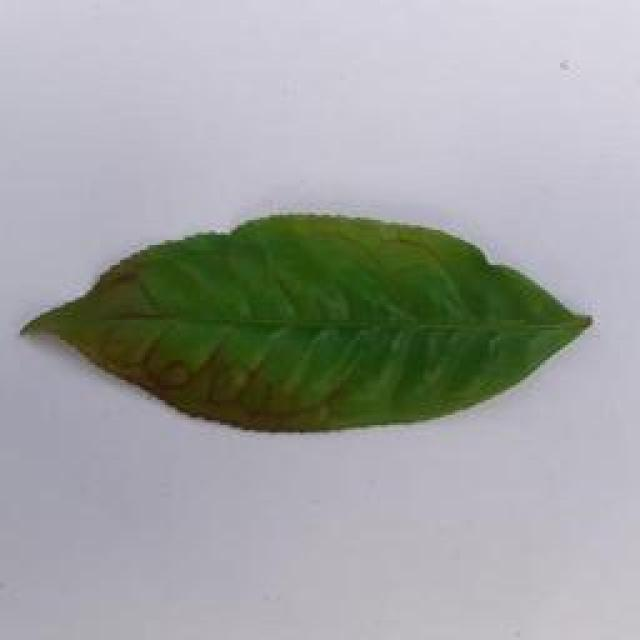Red Leaf Spot: (22, 205, 600, 452)
